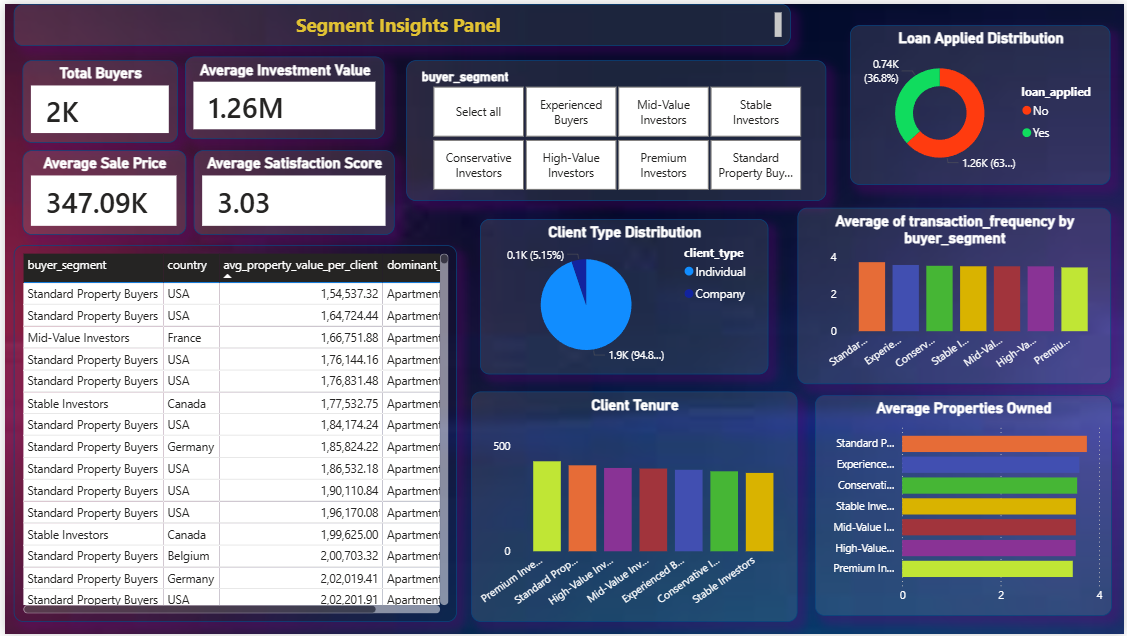

Layout of this report page (visuals, bound fields, positions):
{"tool":"powerbi","page":{"name":"Dashboard 4 ","canvas":[1280,720],"ordinal":3},"visuals":[{"type":"textbox","box":[9.7,0,887.9,48.3],"z":0},{"type":"slicer","fields":{"Values":["buyer_segmentation_final.buyer_segment"]},"box":[458.4,63.9,480.2,160.5],"z":1000},{"type":"cardVisual","title":"Total Buyers","fields":{"Data":["Count(buyer_segmentation_final.client_id)"]},"box":[19.3,63.9,177.3,94.1],"z":2000},{"type":"cardVisual","title":"Average Investment Value","fields":{"Data":["Avg(buyer_segmentation_final.total_investment_value)"]},"box":[206.3,60.3,228,94.1],"z":3000},{"type":"cardVisual","title":"Average Sale Price","fields":{"Data":["Avg(buyer_segmentation_final.sale_price)"]},"box":[19.3,167.7,187,96.5],"z":4000},{"type":"cardVisual","title":"Average Satisfaction Score","fields":{"Data":["Avg(buyer_segmentation_final.satisfaction_score)"]},"box":[216,167.7,229.2,96.5],"z":5000},{"type":"clusteredBarChart","title":"Average Properties Owned","fields":{"Category":["buyer_segmentation_final.buyer_segment"],"Y":["Avg(buyer_segmentation_final.properties_owned)"]},"box":[925.3,447.6,339,252.1],"z":6000},{"type":"clusteredColumnChart","fields":{"Category":["buyer_segmentation_final.buyer_segment"],"Y":["Avg(buyer_segmentation_final.transaction_frequency)"]},"box":[906,232.8,358.3,201.5],"z":7000},{"type":"clusteredColumnChart","title":"Client Tenure","fields":{"Category":["buyer_segmentation_final.buyer_segment"],"Y":["Avg(buyer_segmentation_final.time_as_client)"]},"box":[533.2,442.8,372.8,263],"z":8000},{"type":"donutChart","title":"Loan Applied Distribution","fields":{"Y":["CountNonNull(buyer_segmentation_final.client_id)"],"Category":["buyer_segmentation_final.loan_applied"]},"box":[966.4,24.1,298,182.2],"z":9000},{"type":"pieChart","title":"Client Type Distribution","fields":{"Category":["buyer_segmentation_final.client_type"],"Y":["CountNonNull(buyer_segmentation_final.client_id)"]},"box":[542.9,246.1,329.4,177.3],"z":10000},{"type":"tableEx","title":"Segment Profile Summary","fields":{"Values":["buyer_segmentation_final.buyer_segment","buyer_segmentation_final.country","buyer_segmentation_final.avg_property_value_per_client","buyer_segmentation_final.dominant_unit_category"]},"box":[9.7,276.3,506.7,430.7],"z":11000}]}

Visuals, with their boxes in screenshot pixels (x1, y1, x2, y2), scaled from the page's 1280x720 canvas onto the 1127x636 screenshot:
textbox: 9/0/790/43
slicer - buyer_segmentation_final.buyer_segment: 404/56/826/198
"Total Buyers" cardVisual: 17/56/173/140
"Average Investment Value" cardVisual: 182/53/382/136
"Average Sale Price" cardVisual: 17/148/182/233
"Average Satisfaction Score" cardVisual: 190/148/392/233
"Average Properties Owned" clusteredBarChart: 815/395/1113/618
clusteredColumnChart - buyer_segmentation_final.buyer_segment x Avg(buyer_segmentation_final.transaction_frequency): 798/206/1113/384
"Client Tenure" clusteredColumnChart: 469/391/798/623
"Loan Applied Distribution" donutChart: 851/21/1113/182
"Client Type Distribution" pieChart: 478/217/768/374
"Segment Profile Summary" tableEx: 9/244/455/625
